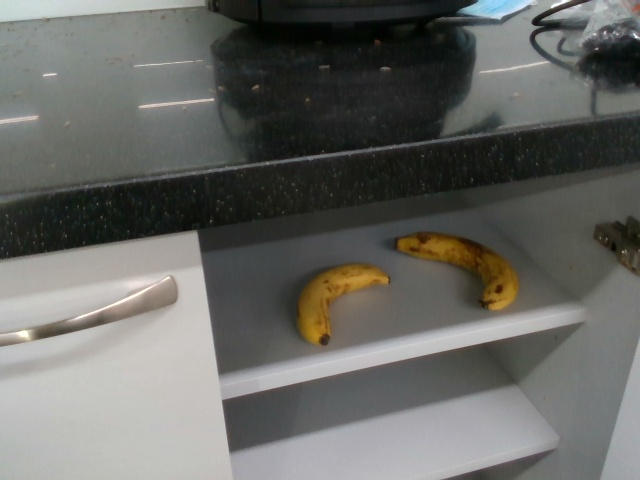banana: (394, 230, 521, 312), (288, 259, 389, 346)
